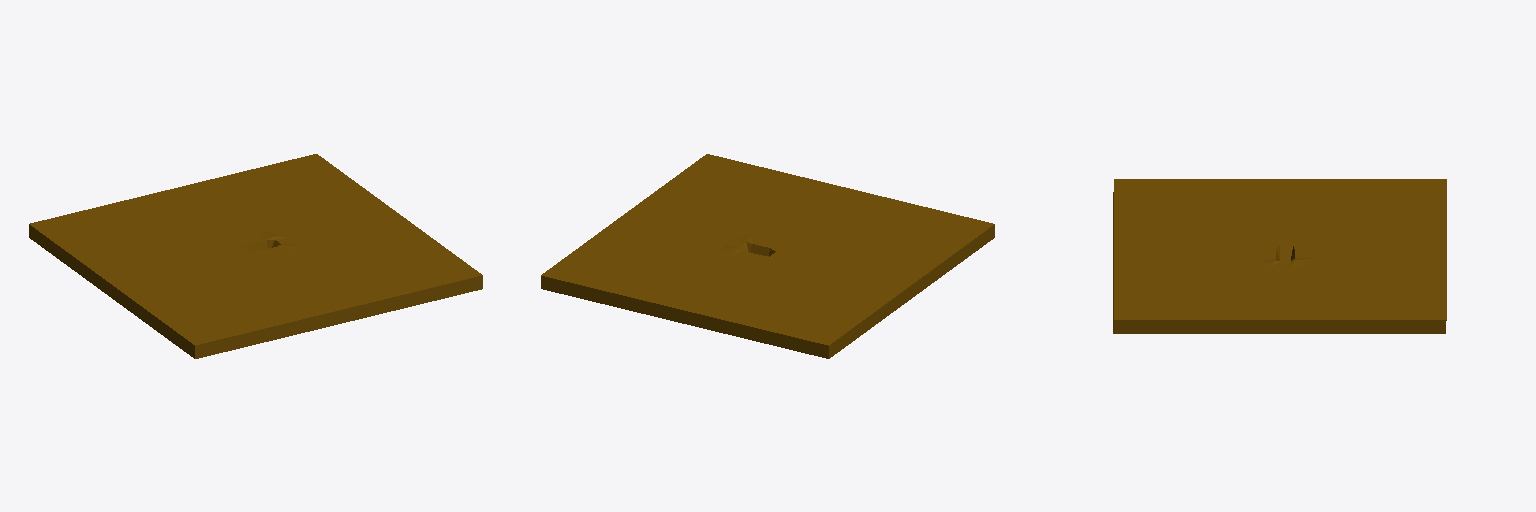
File: ground-dig2.obj
3 renders of one model, left to right at view 1: azimuth 30°, elevation 25°; view 2: azimuth 150°, elevation 25°; view 3: azimuth 270°, elevation 25°, orthographic.
Visible parts, largest first — view 1: Cube_Cube.005; view 2: Cube_Cube.005; view 3: Cube_Cube.005.
Part boxes in pixels (left/top/right/bottom): Cube_Cube.005: left=29, top=154, right=482, bottom=358; Cube_Cube.005: left=541, top=154, right=994, bottom=358; Cube_Cube.005: left=1113, top=179, right=1446, bottom=333.
Bounding box in the file's own units: 40 × 1.93 × 40.04.